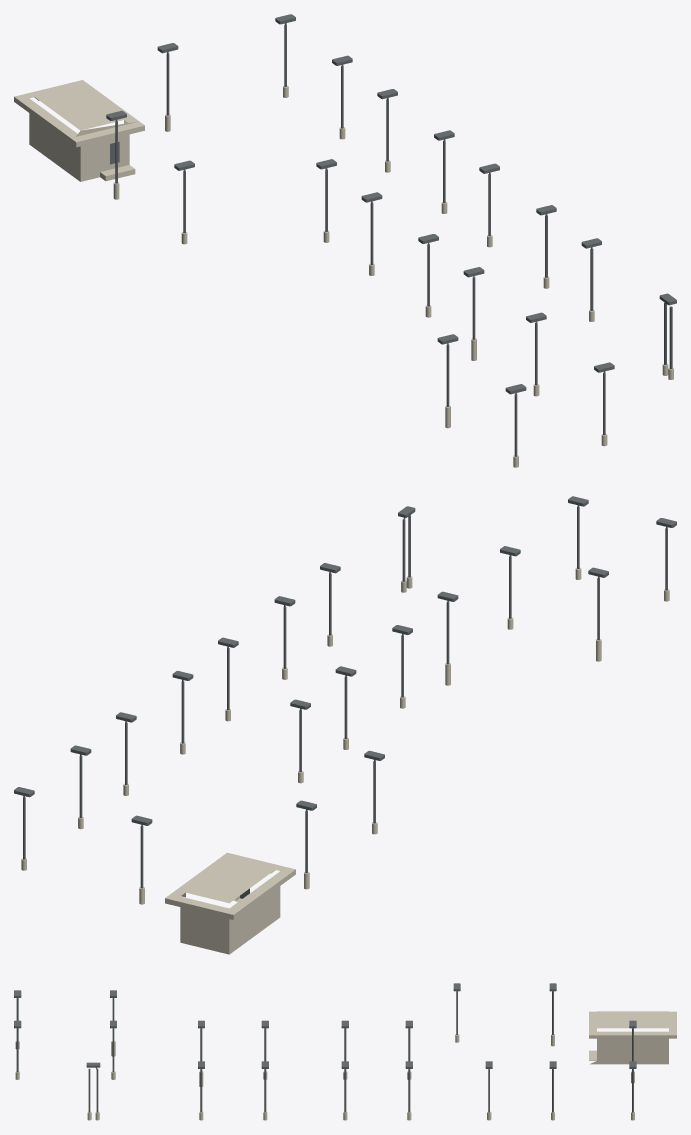
3 views of the same model, one above another, from view 1: azimuth 30°, elevation 25°; view 2: azimuth 150°, elevation 25°; view 3: azimuth 270°, elevation 25° (orthographic). The views are drawn at different scales.
Visible parts, largest first — view 1: buildings_s_-4_5_Warm_Limestone, buildings_s_-4_5_Dark_Metal; view 2: buildings_s_-4_5_Warm_Limestone, buildings_s_-4_5_Dark_Metal; view 3: buildings_s_-4_5_Warm_Limestone, buildings_s_-4_5_Dark_Metal.
Part boxes in pixels (x1,y1,x2,y2): buildings_s_-4_5_Warm_Limestone: (14,80,673,467); buildings_s_-4_5_Dark_Metal: (106,14,676,456); buildings_s_-4_5_Warm_Limestone: (21,567,669,954); buildings_s_-4_5_Dark_Metal: (14,496,676,898); buildings_s_-4_5_Warm_Limestone: (15,1011,676,1120); buildings_s_-4_5_Dark_Metal: (14,983,636,1112).
Size of the model in its own units: 25.35 by 8.74 by 82.95.
